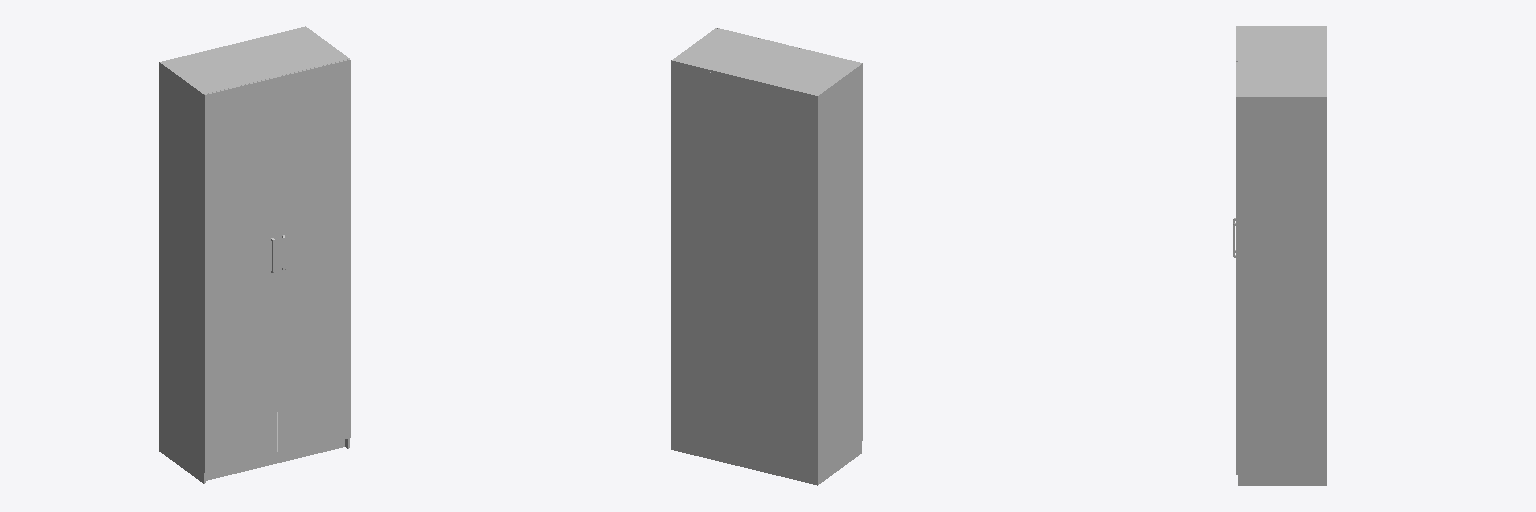
File: Loft.obj
The picture shows the model from 3 angles: view 1: azimuth 30°, elevation 25°; view 2: azimuth 150°, elevation 25°; view 3: azimuth 270°, elevation 25°; orthographic projection.
Parts seen in each view (by area): view 1: Куб.002; view 2: Куб.002; view 3: Куб.002.
Boxes of the visible parts, box(x1,y1,x2,y2) form: Куб.002: box(159, 26, 350, 483); Куб.002: box(671, 28, 862, 485); Куб.002: box(1236, 26, 1326, 485).
Size of the model in its own units: 1.6 by 4.07 by 0.8819.